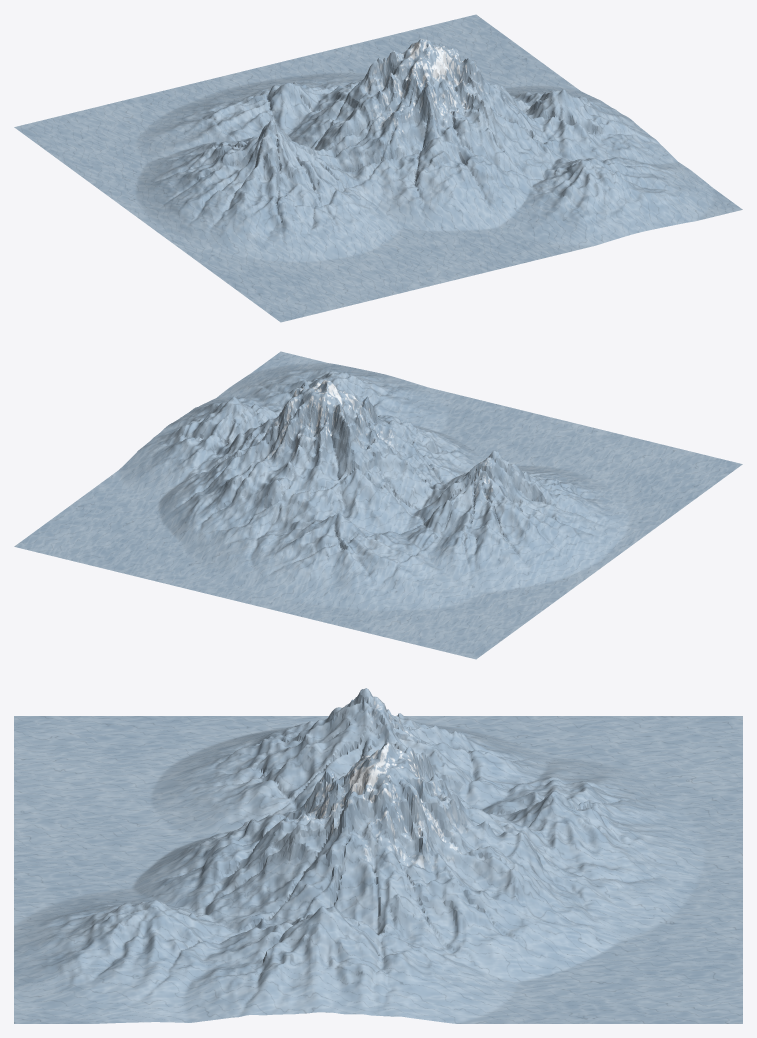
Rendered from cpolar-mountain-desktop.glb.
3 views of the same model, one above another, from view 1: azimuth 30°, elevation 25°; view 2: azimuth 150°, elevation 25°; view 3: azimuth 270°, elevation 25° (orthographic). The views are drawn at different scales.
Visible parts, largest first — view 1: CPolar_Mountain_Desktop; view 2: CPolar_Mountain_Desktop; view 3: CPolar_Mountain_Desktop.
Part boxes in pixels (box(x1,y1,x2,y2)): CPolar_Mountain_Desktop: box(14, 14, 742, 322); CPolar_Mountain_Desktop: box(14, 351, 742, 659); CPolar_Mountain_Desktop: box(14, 688, 742, 1023).
Size of the model in its own units: 27.5 by 6.59 by 27.5.
1 material, 1 textured.
